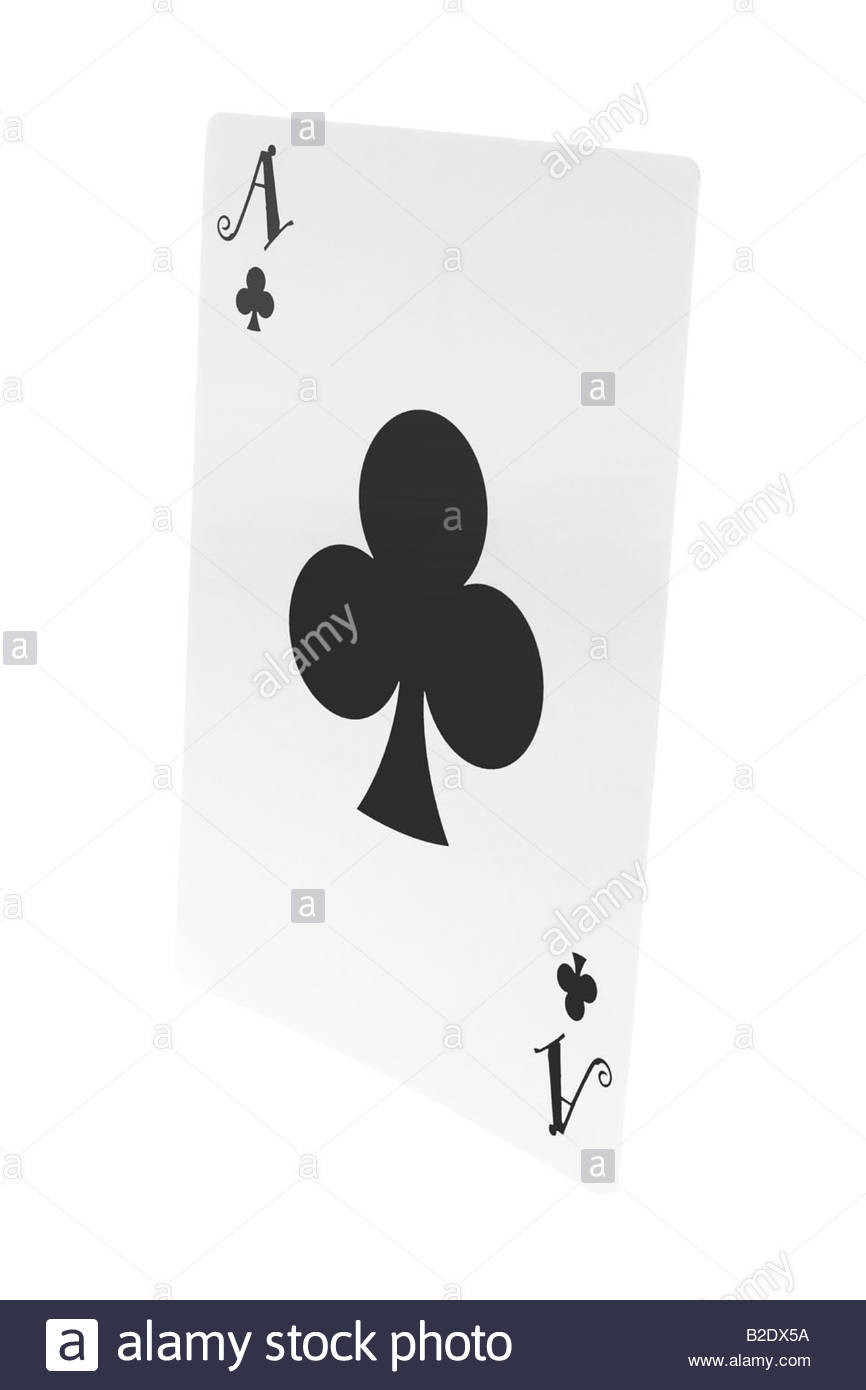ace of clubs: (164, 112, 699, 1160)
